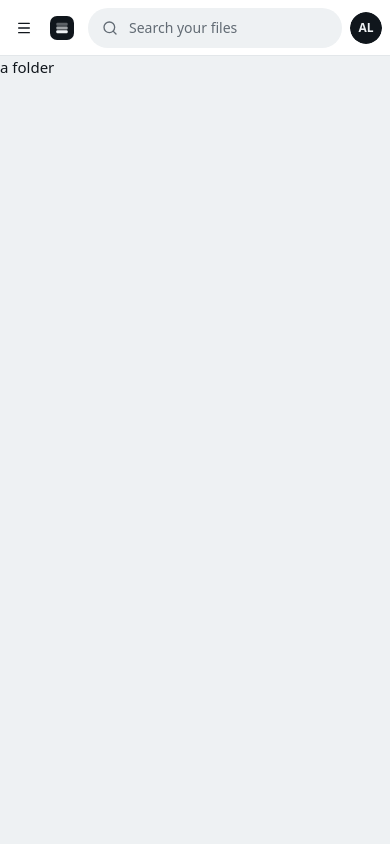
Scenario: the rail and the account menu › dims the page behind the drawer with the same scrim as every dialog
The width and height of the screenshot is (390, 844).
Click the button named "Open navigation". click: {"x": 24, "y": 28}
box: [8,12,40,44]
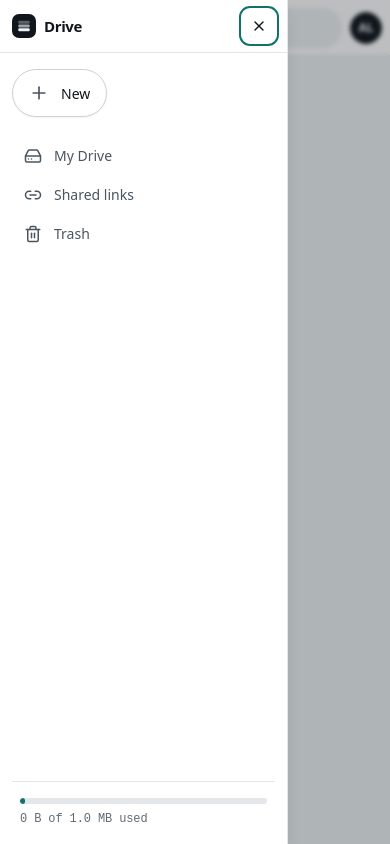
Result: the dialog is shown
